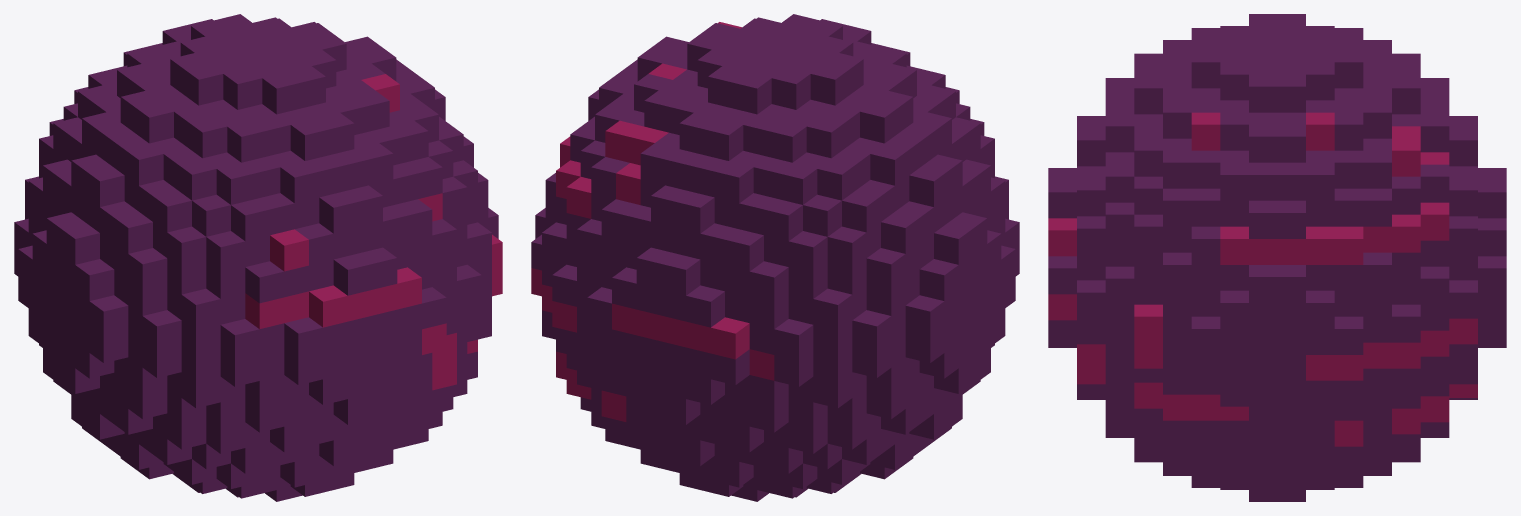
File: planetas-16-roxo2.obj
3 renders of one model, left to right at view 1: azimuth 30°, elevation 25°; view 2: azimuth 150°, elevation 25°; view 3: azimuth 270°, elevation 25°, orthographic.
Size of the model in its own units: 1.6 by 1.6 by 1.6.
1 material, 1 textured.
